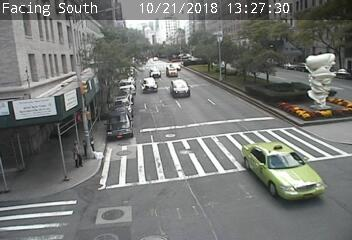car: (242, 142, 324, 200), (170, 79, 188, 97), (141, 77, 156, 93), (149, 67, 161, 79), (166, 66, 176, 76)
